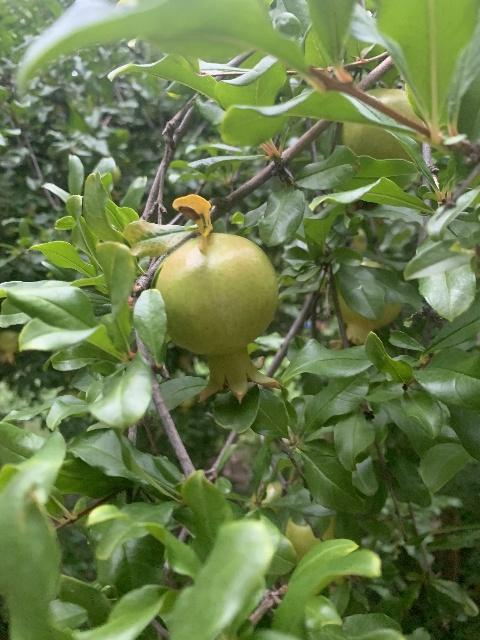mid-growth: (154, 232, 281, 405), (337, 260, 400, 345)
